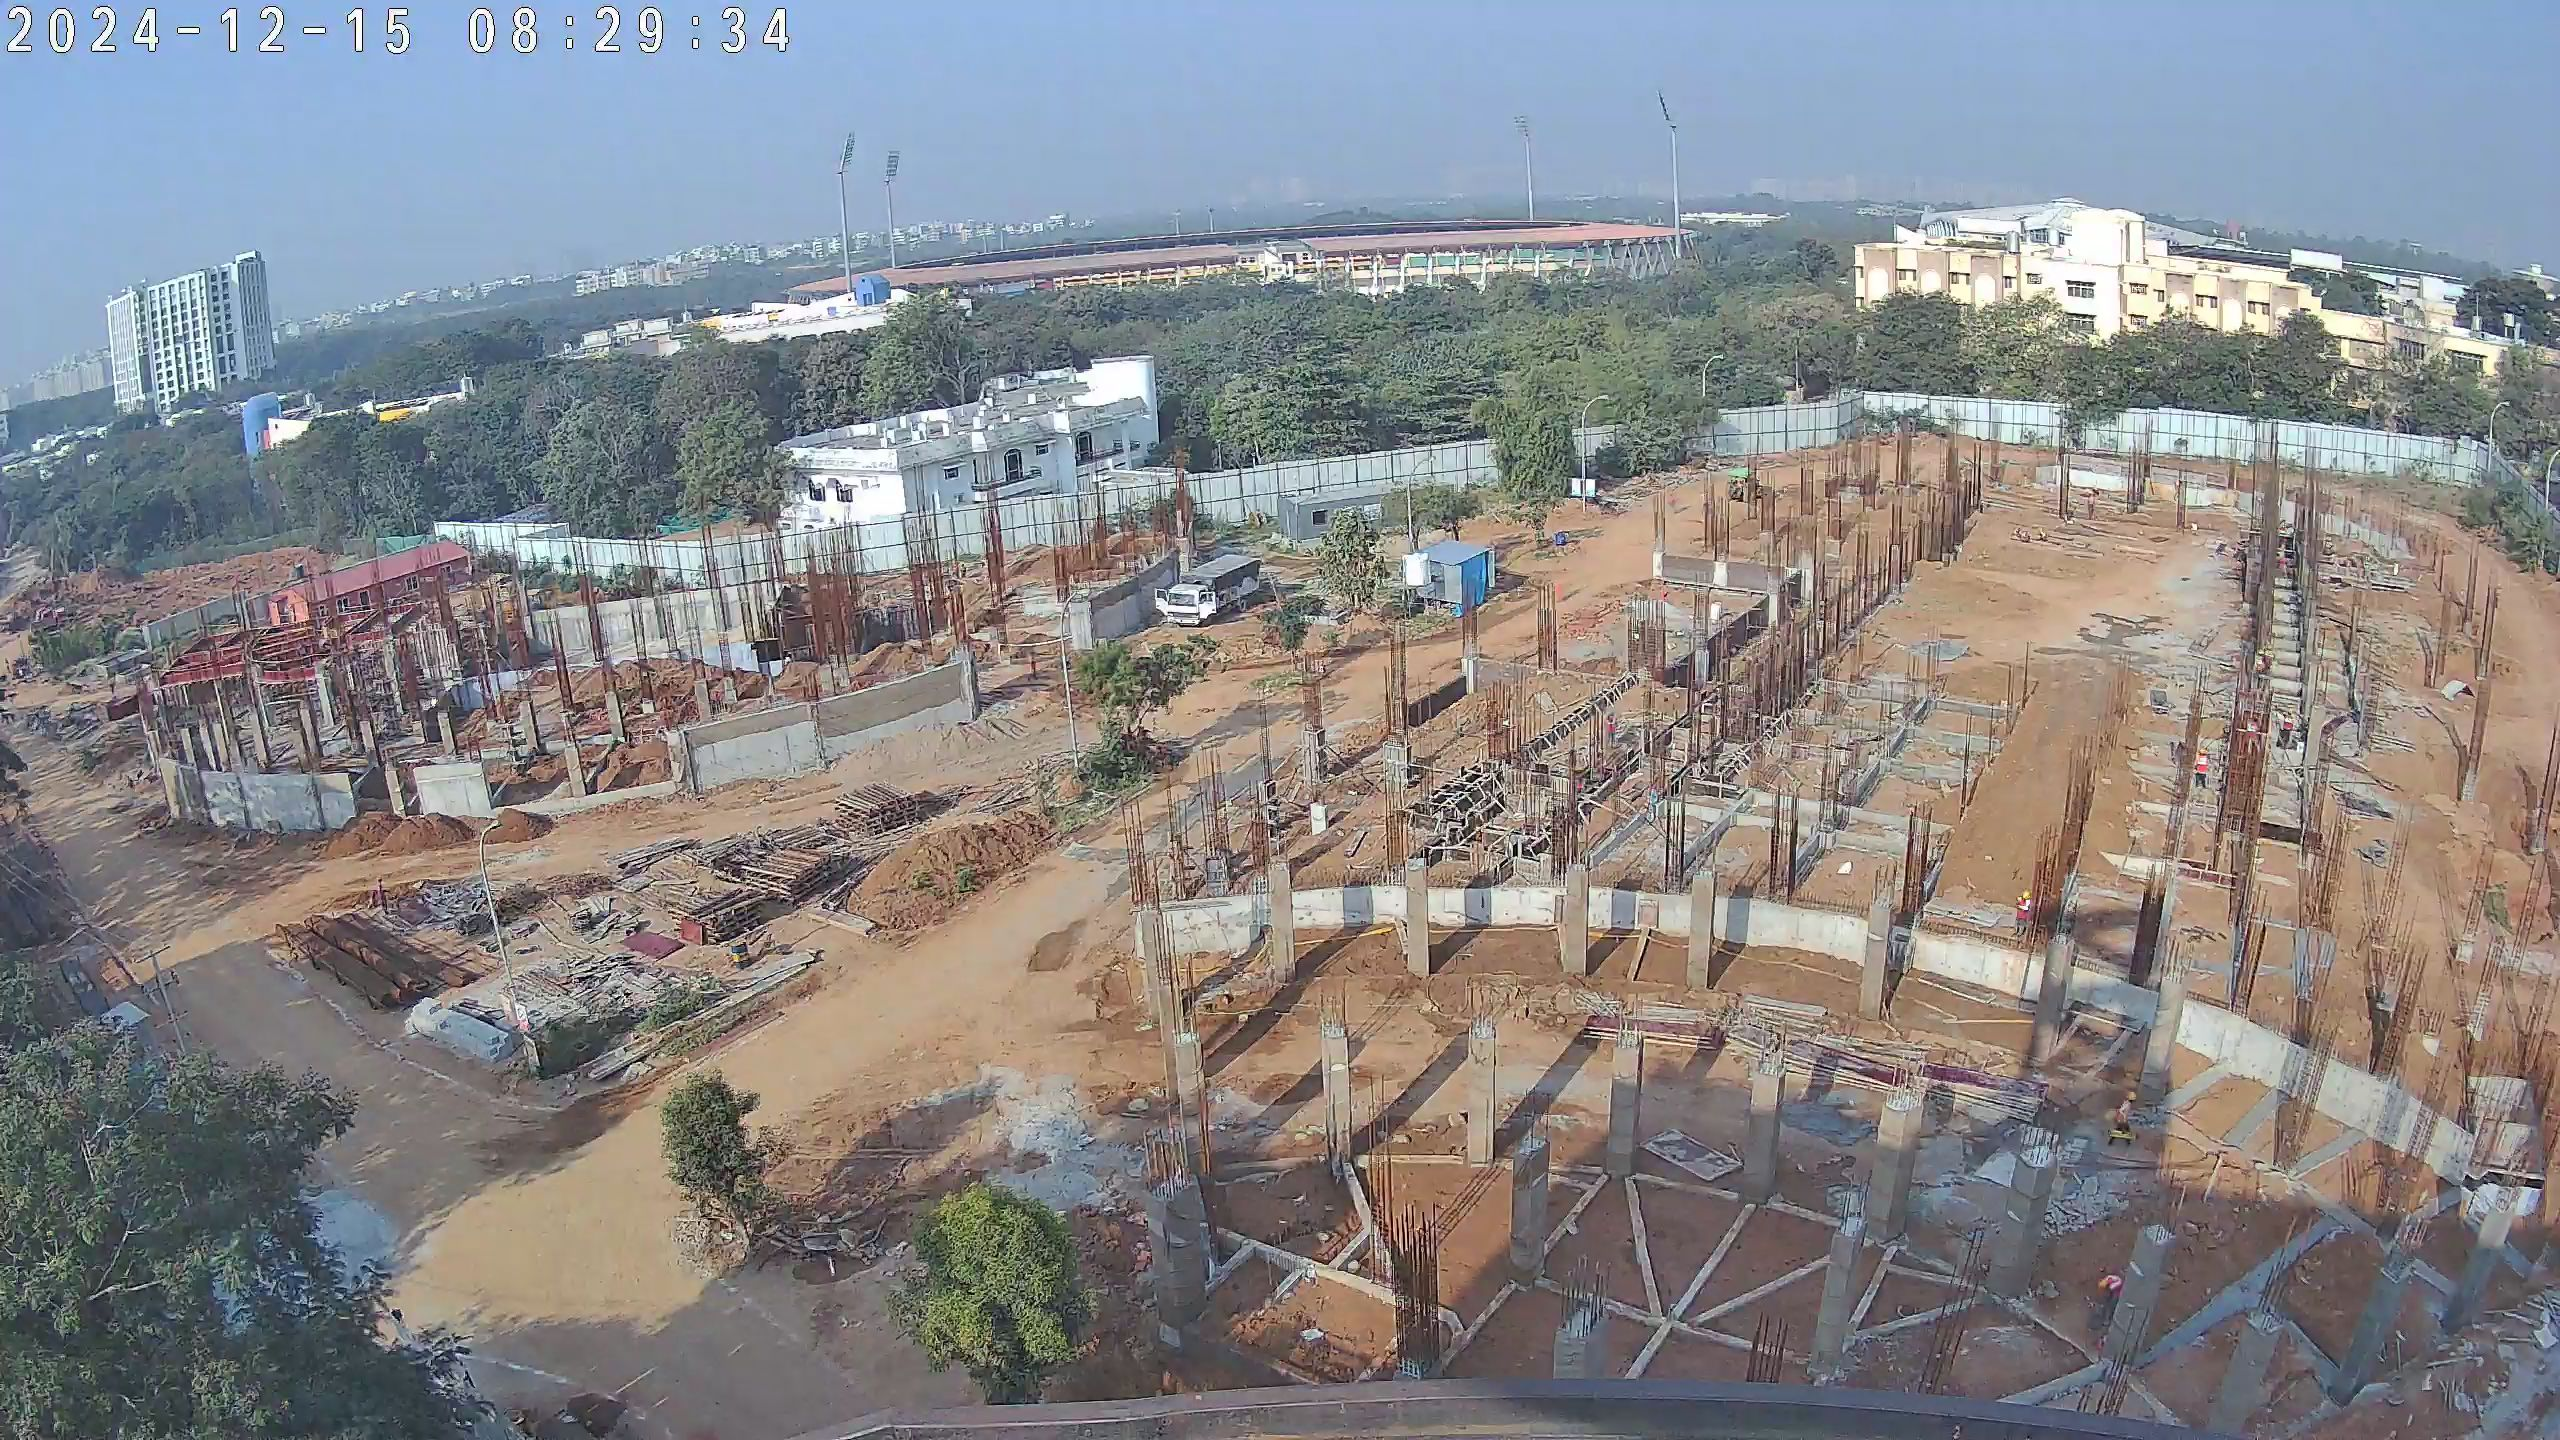truck: (1152, 554, 1260, 624)
worker: (2104, 1085, 2137, 1154), (2091, 1268, 2127, 1327), (2189, 749, 2212, 797), (2245, 710, 2266, 762), (2012, 889, 2031, 937), (1605, 706, 1623, 754), (2280, 710, 2298, 754), (2083, 485, 2099, 524)
